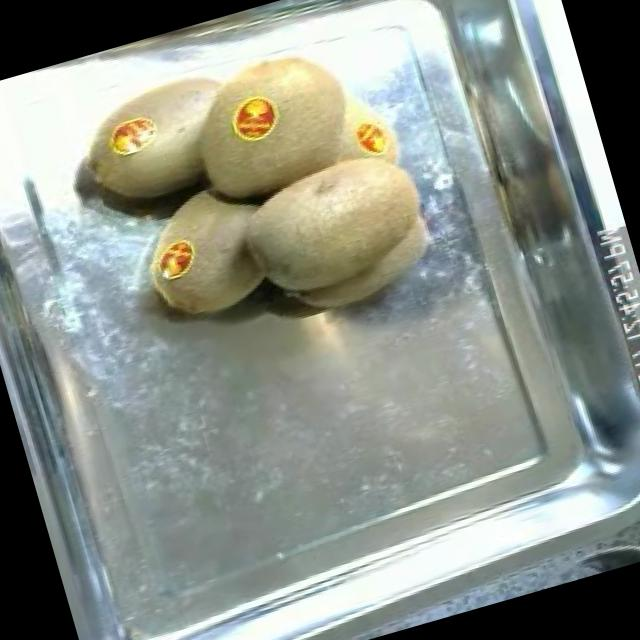Fruit: (220, 122, 461, 344), (120, 164, 288, 336), (217, 80, 291, 154)
